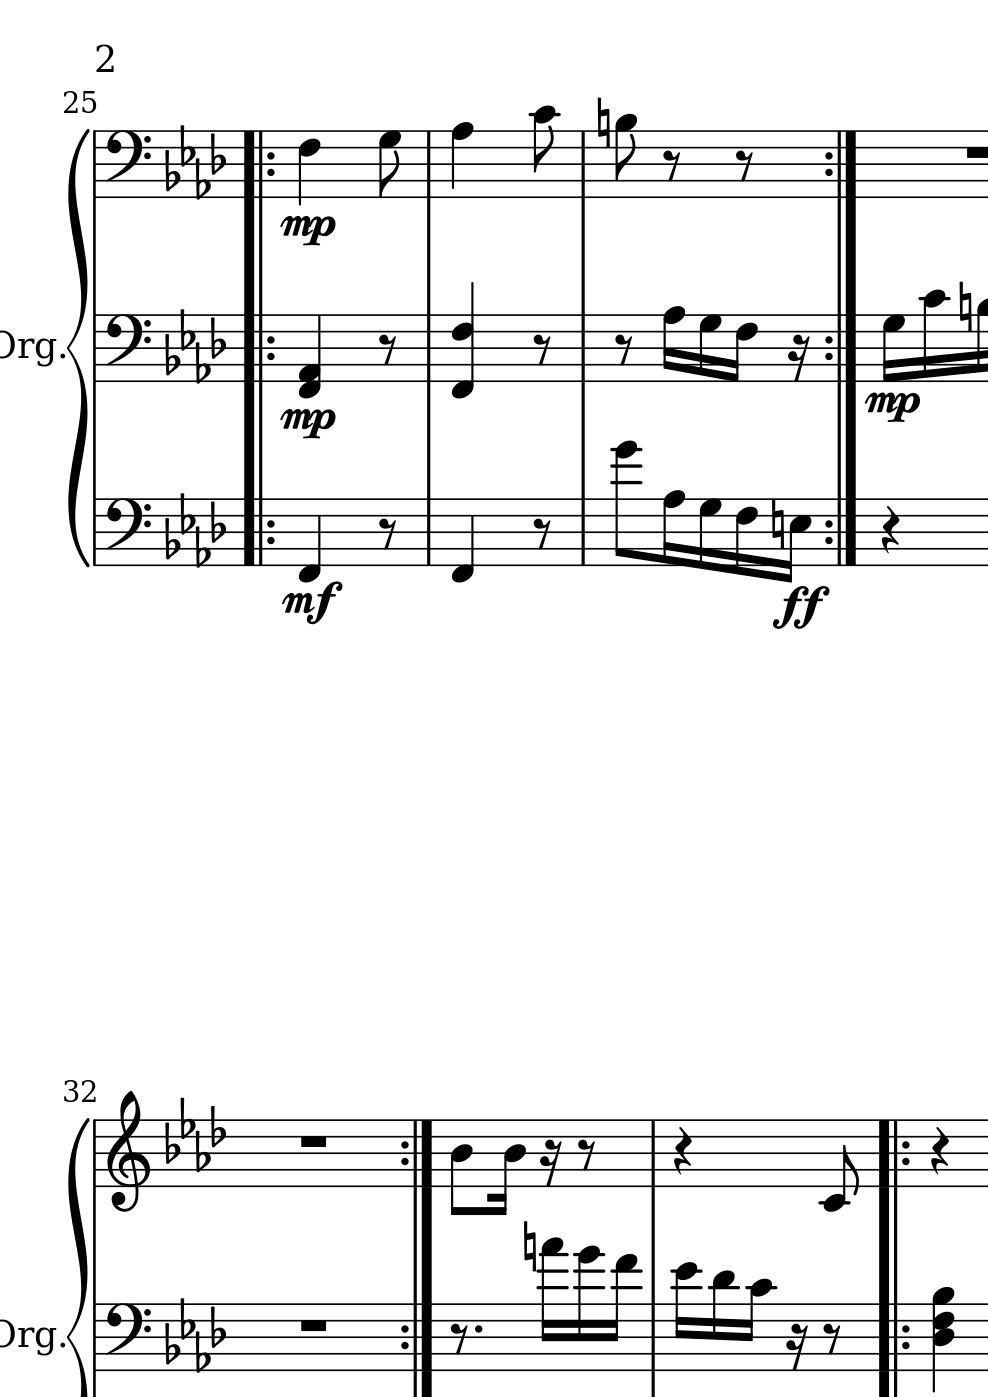16_10: (742, 1277, 773, 1373), (920, 288, 947, 383)
16_11: (708, 1267, 735, 1373)
16_12: (671, 1261, 700, 1373)
16_13: (606, 1254, 639, 1373)
16_14: (572, 1246, 602, 1372)
16_15: (537, 1236, 565, 1372)
16_5: (779, 497, 812, 584)
16_6: (726, 311, 757, 385), (734, 497, 757, 578)
16_7: (696, 495, 721, 573), (695, 311, 721, 385), (880, 310, 905, 384)
16_8: (659, 304, 685, 384), (660, 488, 685, 568)
2: (93, 42, 115, 73), (61, 89, 79, 115), (79, 1078, 97, 1103)
3: (62, 1078, 78, 1104)
32_4: (488, 1118, 526, 1216)
4_-1: (296, 496, 323, 583), (449, 497, 475, 584)
4_-1_1: (295, 312, 322, 397)
4_-1_6: (450, 281, 478, 403)
4_6: (296, 129, 321, 205)
4_8: (448, 120, 474, 200)
4_th: (930, 1283, 956, 1394)
5: (80, 88, 97, 115)
8_-2: (818, 1117, 861, 1214)
8_10: (531, 105, 559, 201)
8_14: (611, 440, 642, 566)
8_4: (448, 1117, 474, 1217)
8_7: (377, 129, 401, 199)
8_9: (612, 113, 638, 201)
A_F: (163, 1097, 227, 1173), (163, 1297, 227, 1372), (163, 306, 226, 383), (164, 122, 226, 199), (163, 492, 225, 566)
Brace: (63, 125, 91, 571), (67, 1107, 89, 1394)
Fclef: (103, 128, 152, 201), (103, 312, 152, 385), (103, 496, 152, 568), (103, 1301, 151, 1371)
Gclef: (105, 1089, 150, 1213)
LeftRepeatSign: (875, 1119, 913, 1188), (875, 1303, 912, 1372), (240, 498, 276, 566), (241, 131, 276, 199), (240, 315, 276, 381)
Natural: (520, 1219, 536, 1274), (957, 281, 972, 337), (769, 496, 784, 550), (595, 97, 609, 149)
Rests1: (295, 1131, 331, 1150), (296, 1315, 330, 1334), (961, 143, 988, 160)
Rests16: (784, 1322, 809, 1373), (785, 333, 811, 383), (538, 1138, 562, 1189)
Rests4: (671, 1126, 693, 1177), (879, 505, 900, 555), (929, 1126, 950, 1176)
Rests8: (376, 516, 399, 552), (448, 1321, 470, 1356), (376, 332, 399, 367), (612, 332, 634, 367), (530, 516, 552, 552), (530, 332, 552, 367), (821, 1321, 842, 1355), (661, 148, 681, 181), (734, 148, 754, 181), (576, 1137, 596, 1171)
RightRepeatSign: (398, 1303, 436, 1371), (398, 1120, 435, 1188), (823, 130, 860, 197), (824, 314, 859, 383), (824, 498, 859, 566)
Single_barline: (419, 314, 437, 382), (420, 498, 437, 566), (644, 1120, 661, 1188), (574, 131, 591, 198), (644, 1304, 661, 1370), (574, 315, 591, 381), (574, 499, 591, 564), (421, 134, 437, 199), (88, 130, 103, 197), (89, 1120, 103, 1188), (89, 499, 103, 565), (89, 1304, 103, 1370), (89, 315, 102, 382)
dot: (472, 1324, 485, 1336)
ff: (771, 584, 831, 632)
mf: (281, 583, 343, 628)
mp: (859, 388, 922, 428), (276, 211, 336, 251), (275, 405, 339, 443)
